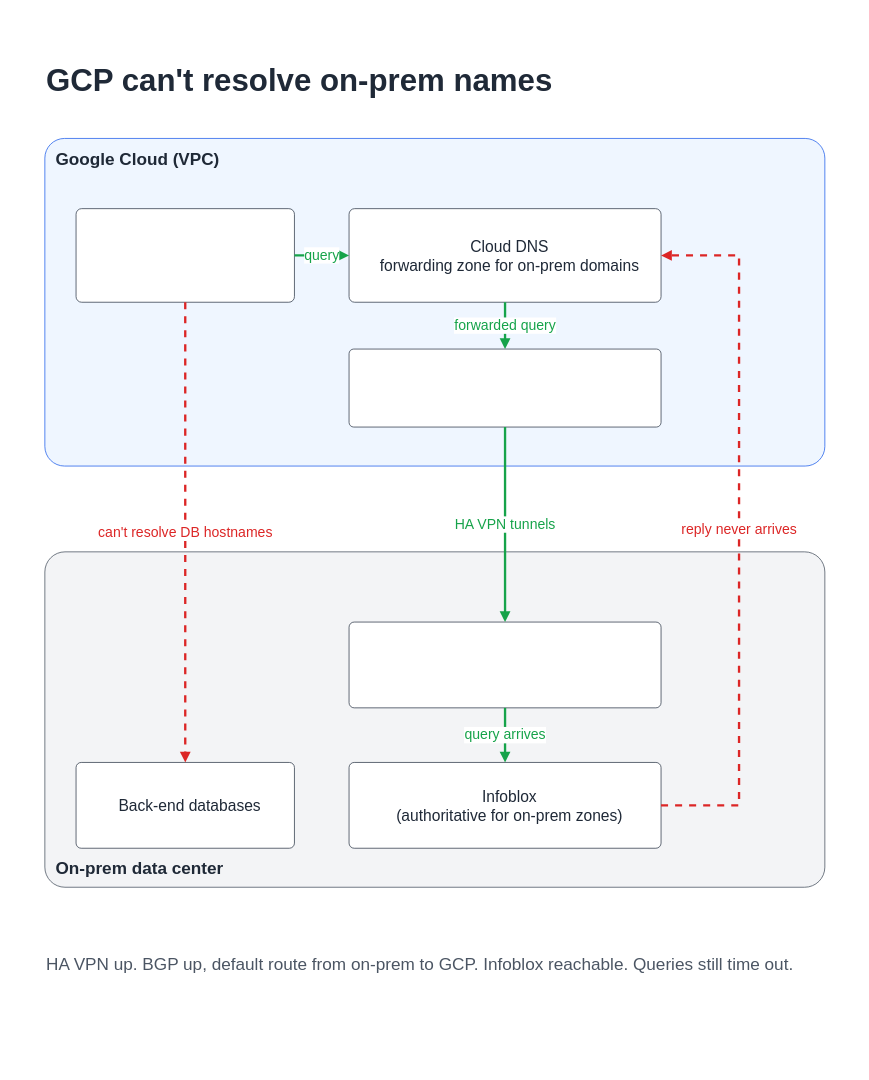
Some shapes in this 869 by 1080 pixel diagram are drawn without their labels. Each missing label, with the centre of its shape:
Edge firewall: point (504, 664)
HA VPN + Cloud Router (BGP): point (504, 387)
VMs in GCP (production apps): point (184, 255)
